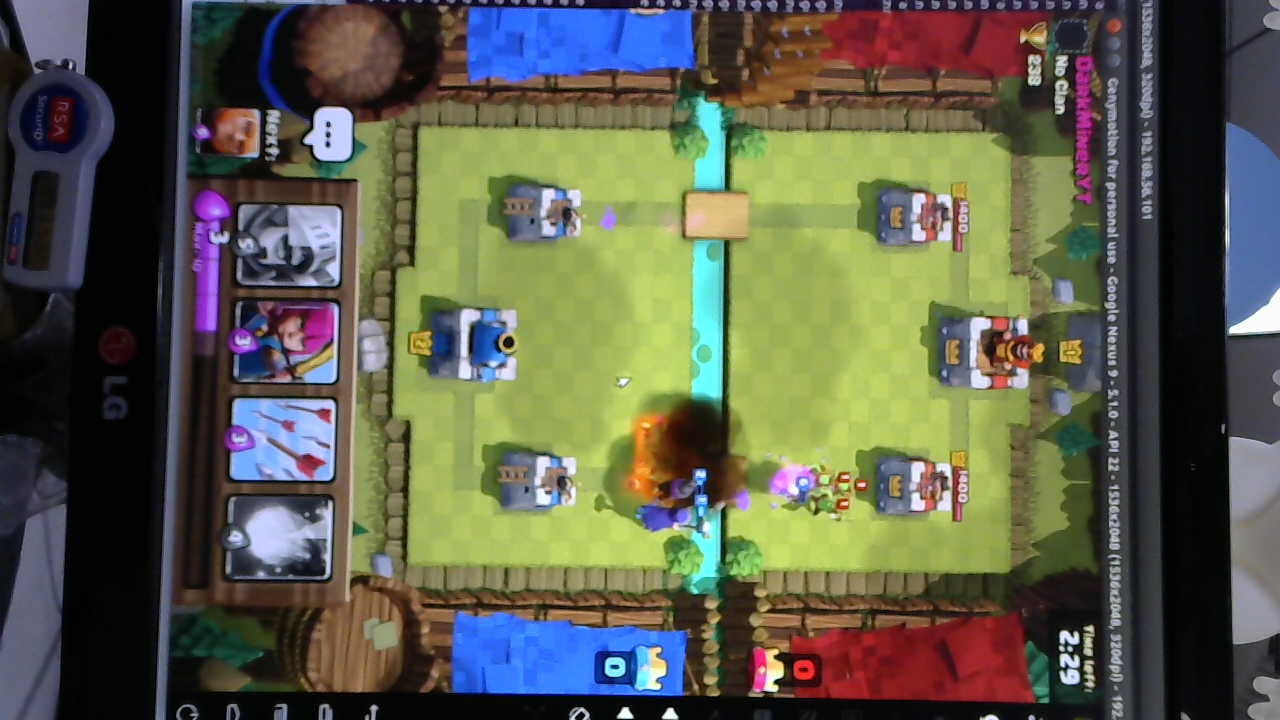arena: (500, 451, 576, 514), (510, 182, 587, 238)
earena: (881, 452, 967, 523), (880, 191, 954, 245)
eking: (941, 304, 1034, 394)
king: (432, 306, 517, 383)
musketeer: (651, 476, 699, 502)
witch: (630, 502, 693, 537)
